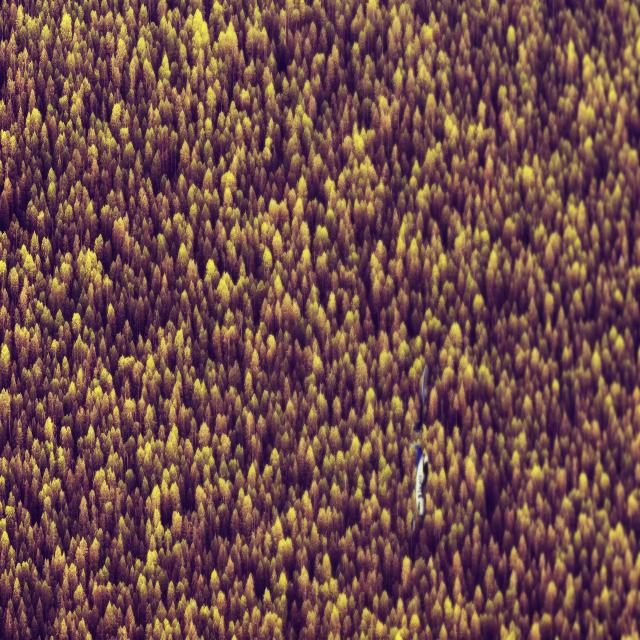airplane: (409, 442, 429, 518), (414, 363, 429, 432)
